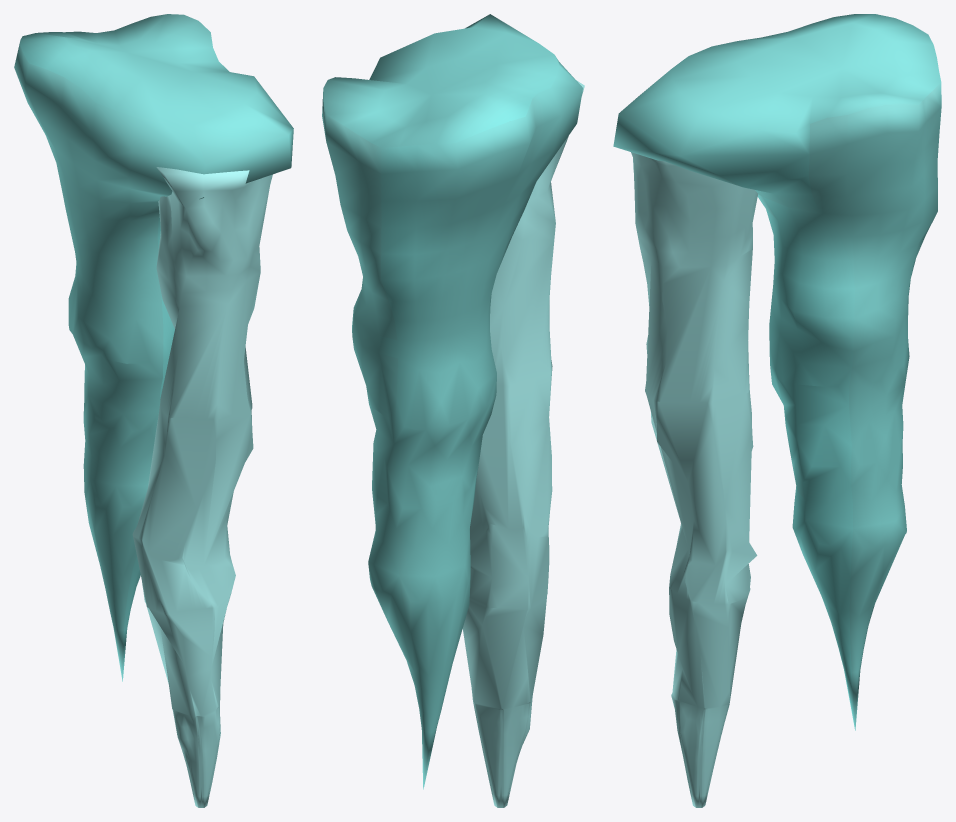
Rendered from icicleclump3-new.glb.
The picture shows the model from 3 angles, left to right: view 1: azimuth 30°, elevation 25°; view 2: azimuth 150°, elevation 25°; view 3: azimuth 270°, elevation 25°; orthographic projection. The views are drawn at different scales.
Visible parts, largest first — view 1: Cylinder.002, Cylinder; view 2: Cylinder.002, Cylinder; view 3: Cylinder.002, Cylinder.
Boxes of the visible parts, x1,y1,x2,y2 form: Cylinder.002: [14, 14, 293, 681]; Cylinder: [132, 167, 272, 807]; Cylinder.002: [322, 14, 582, 789]; Cylinder: [462, 80, 584, 807]; Cylinder.002: [613, 14, 941, 730]; Cylinder: [631, 152, 757, 807].
Bounding box in the file's own units: 0.2544 × 0.9494 × 0.3752.
Materials: 2 (2 with a texture image).
